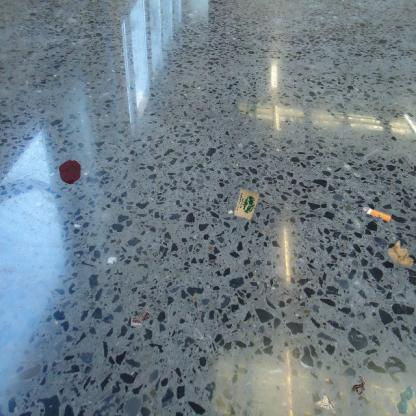dirty: (386, 239, 415, 269), (233, 188, 259, 220), (361, 206, 392, 224), (129, 308, 154, 330), (313, 394, 338, 416), (350, 375, 366, 395)
liquid: (396, 385, 415, 415), (58, 159, 80, 184)
